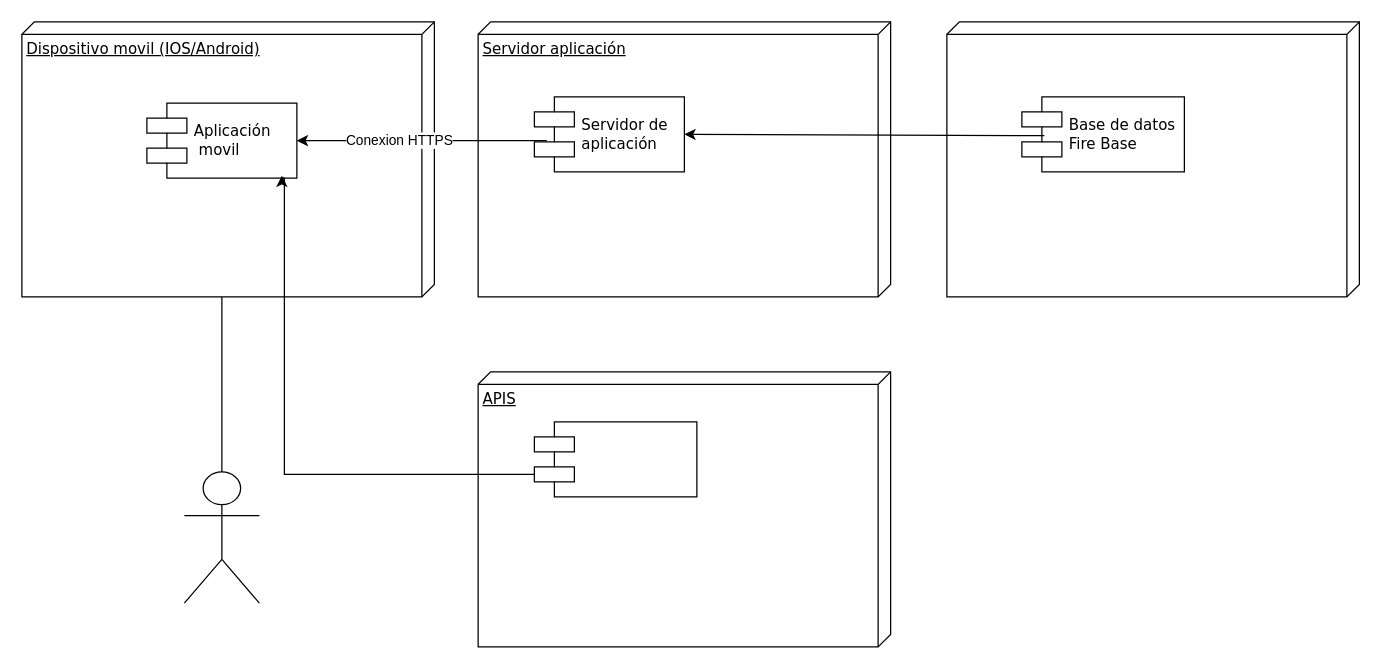
Image size: 1381x669. Some labels were removed from this diagram. The box of each missing label's shape, as (x1, y1, x2, y2) in pixels:
API notificaciones: (533, 421, 697, 497)
Servidor base de datos: (946, 21, 1359, 297)
Usuario: (183, 471, 259, 603)
